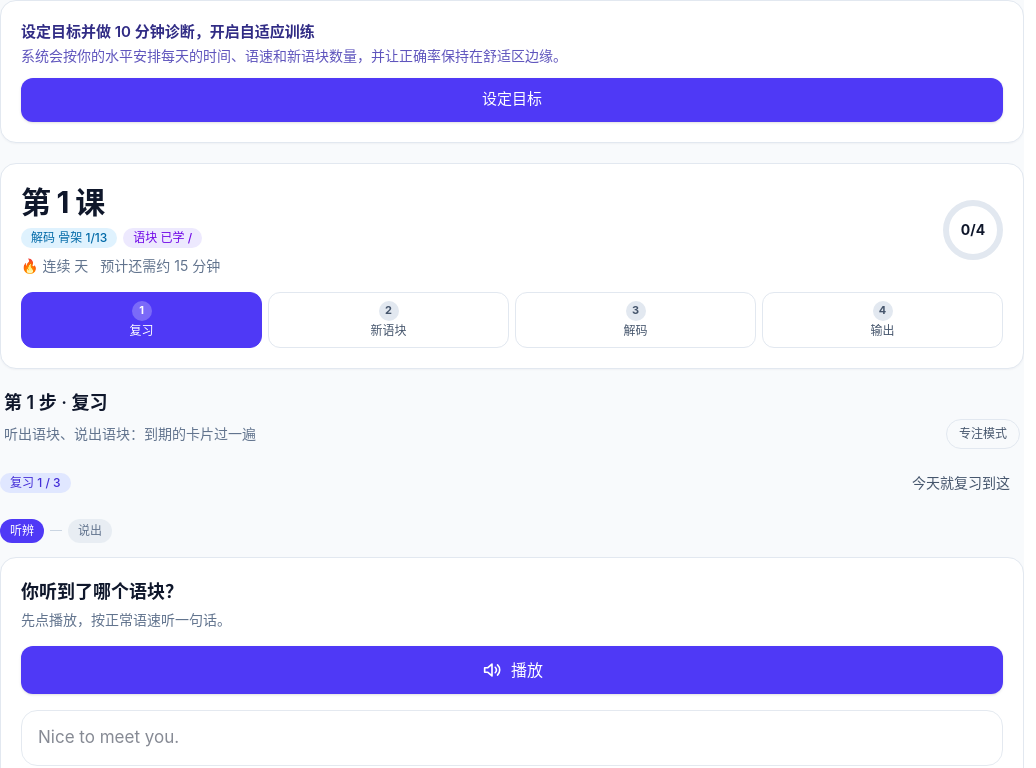
Test case: TodayPage v2: step 1 复习 › 今天就复习到这 ends the step early
This screenshot has width=1036, height=768.
Expected: the text "复习 1 / 3" is shown, 0,472 -> 71,492
Click the button "今天就复习到这".
click(961, 482)  # box 898,460 -> 1024,504
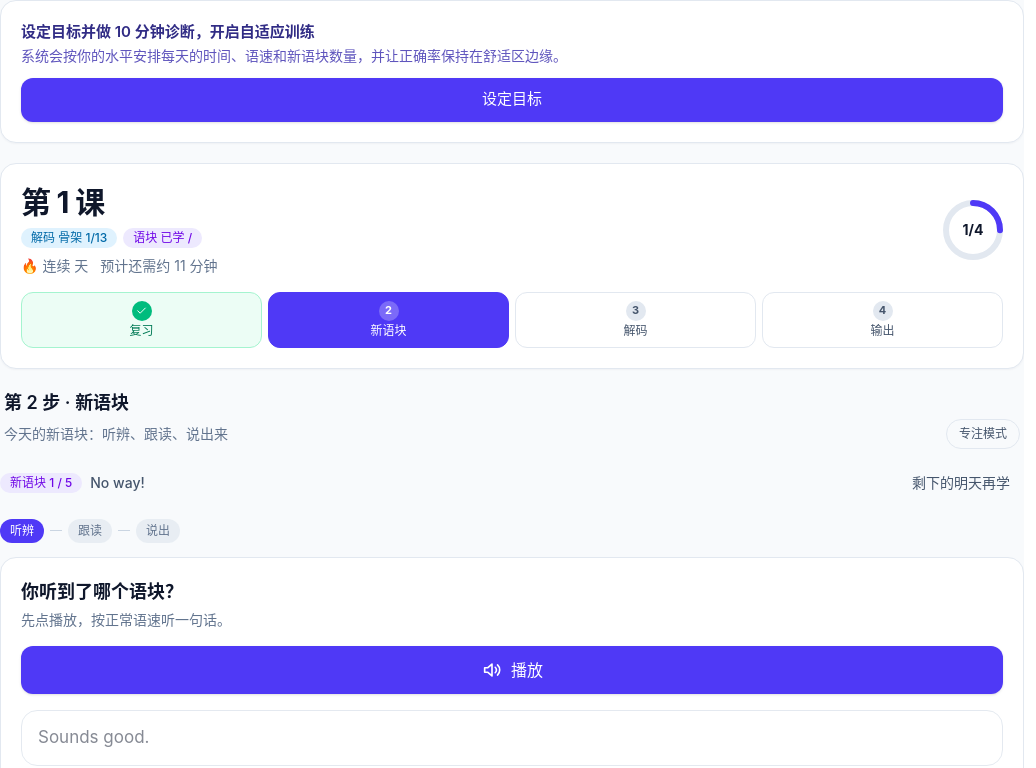
Expected: the text "新语块 1 / 5" is shown, 0,472 -> 82,492
